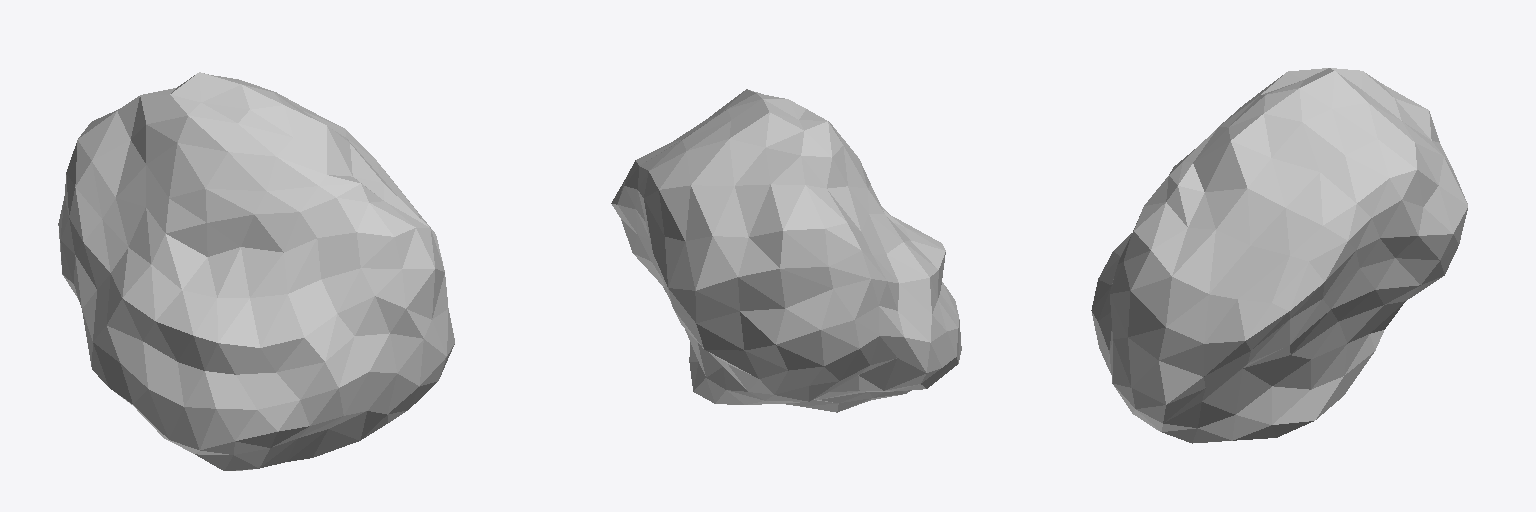
File: asteroid21.obj
The picture shows the model from 3 angles: view 1: azimuth 30°, elevation 25°; view 2: azimuth 150°, elevation 25°; view 3: azimuth 270°, elevation 25°; orthographic projection.
Visible parts, largest first — view 1: asteroid; view 2: asteroid; view 3: asteroid.
Boxes of the visible parts, box(x1,y1,x2,y2) form: asteroid: box(58, 72, 454, 470); asteroid: box(611, 89, 961, 412); asteroid: box(1091, 68, 1467, 443).
Bounding box in the file's own units: 49.19 × 49.35 × 49.33.